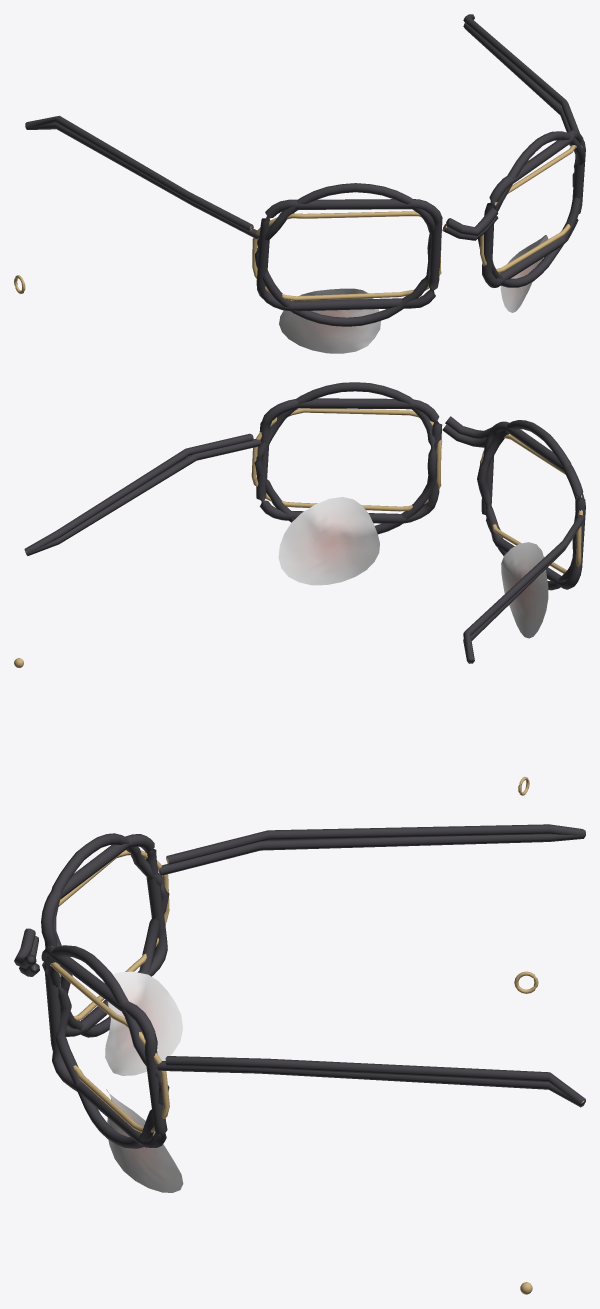
The model's file is face_ext.glb.
3 renders of one model, top to bottom at view 1: azimuth 30°, elevation 25°; view 2: azimuth 150°, elevation 25°; view 3: azimuth 270°, elevation 25°, orthographic. The views are drawn at different scales.
Visible parts, largest first — view 1: extra_glasses_square, extra_glasses_round, extra_blush_l, extra_glasses_thin, extra_blush_r; view 2: extra_glasses_square, extra_glasses_round, extra_blush_r, extra_blush_l, extra_glasses_thin; view 3: extra_glasses_square, extra_glasses_round, extra_blush_l, extra_blush_r, extra_glasses_thin.
Boxes of the visible parts, x1,y1,x2,y2 form: extra_glasses_square: (25,14,585,311); extra_glasses_round: (26,18,584,326); extra_blush_l: (279,288,380,353); extra_glasses_thin: (249,145,582,300); extra_blush_r: (500,235,548,312); extra_glasses_square: (24,398,585,660); extra_glasses_round: (25,382,584,663); extra_blush_r: (278,497,379,585); extra_blush_l: (501,542,548,638); extra_glasses_thin: (25,408,583,573); extra_glasses_square: (19,824,585,1147); extra_glasses_round: (14,833,585,1148); extra_blush_l: (105,971,182,1075); extra_blush_r: (106,1089,183,1192); extra_glasses_thin: (32,850,584,1132).
Size of the model in its own units: 0.1746 by 0.0652 by 0.1365.
